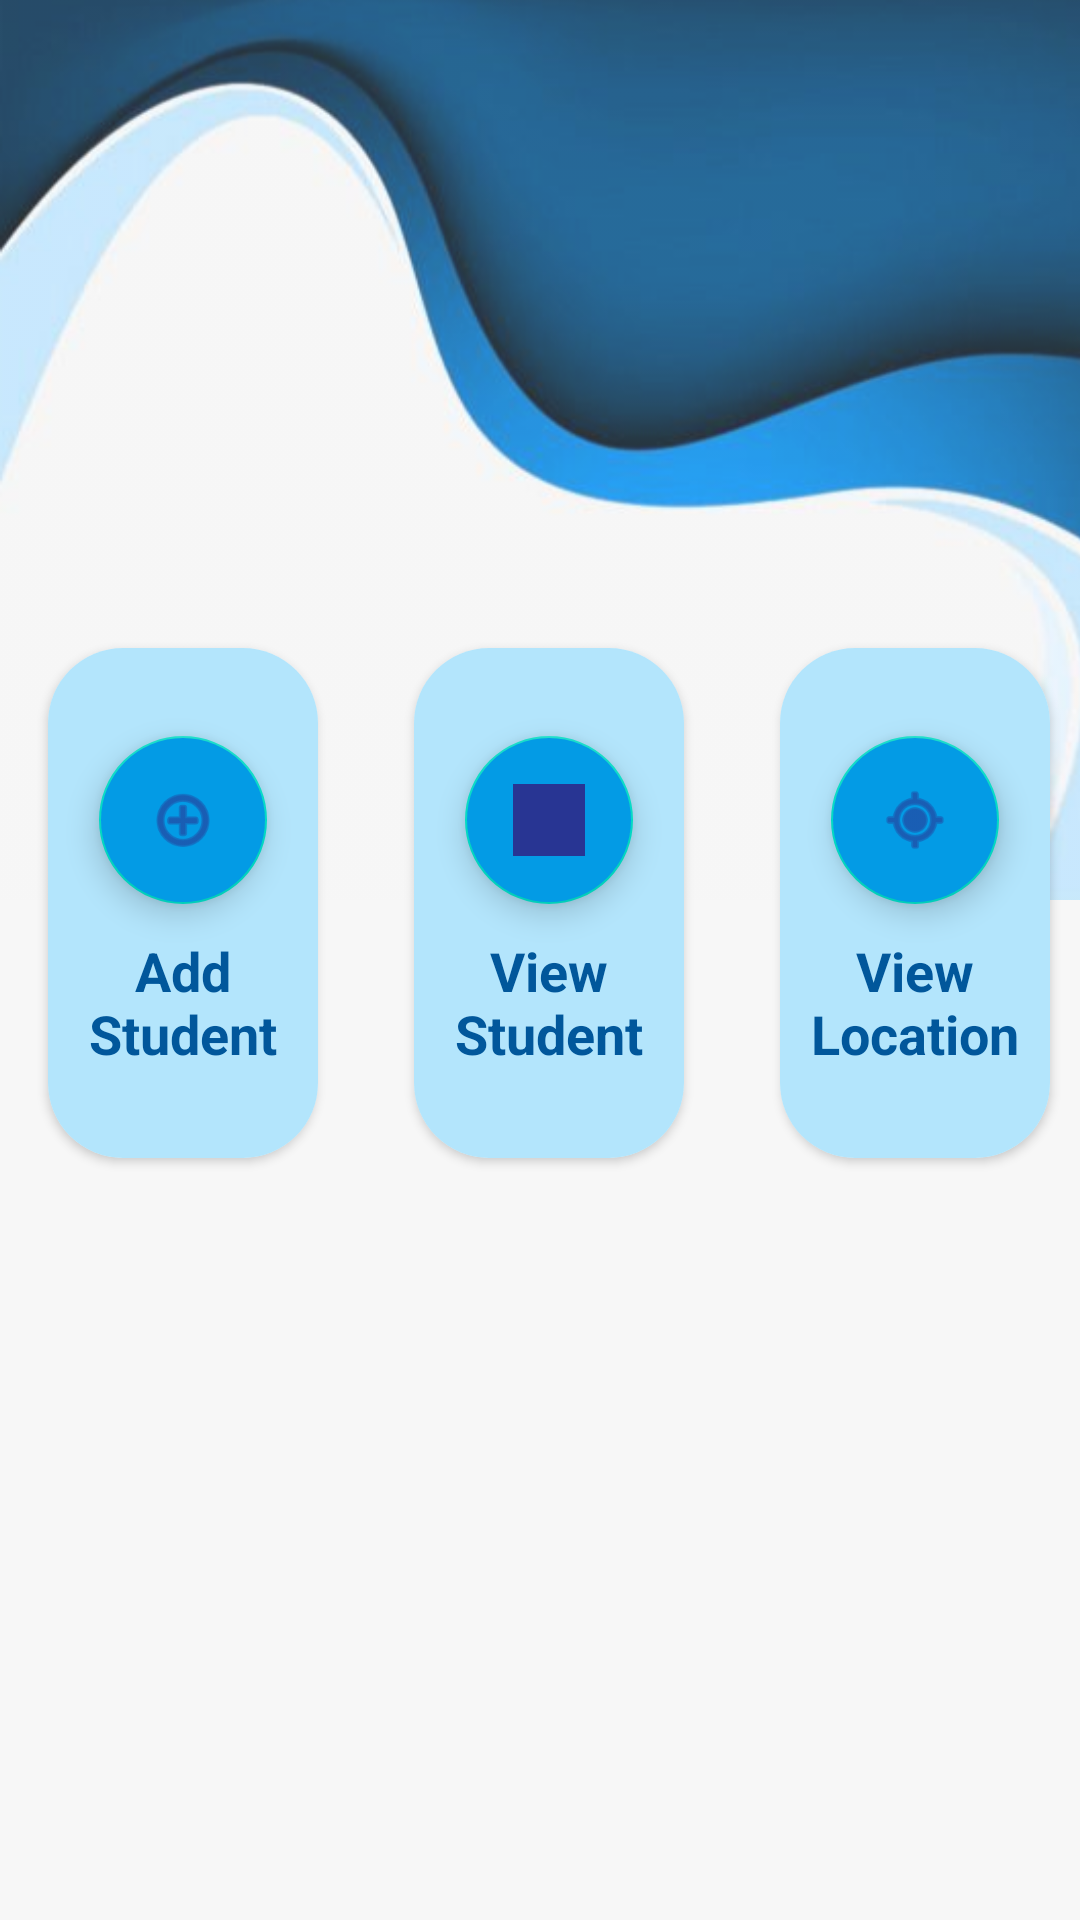

Locate icon controls on the screen. Image size 1080x1920, boxes as (x1, y1, x2, y2).
mylocation: (831, 736, 999, 904)
